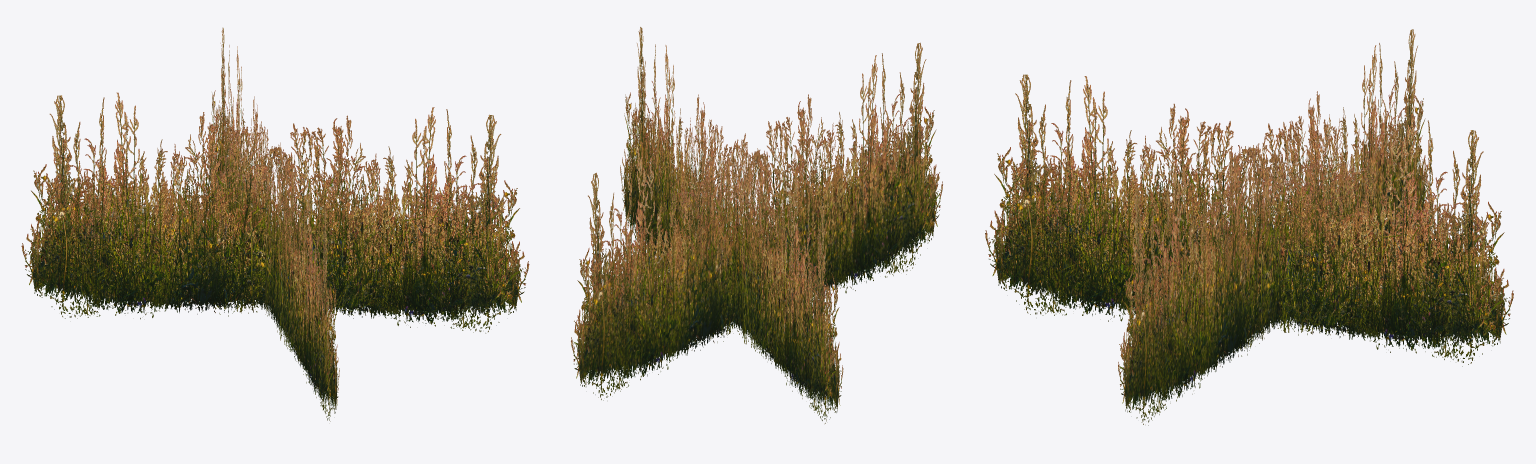
Rendered from SM_Plant_Grass_00.fbx.
3 views of the same model, side by side, from view 1: azimuth 30°, elevation 25°; view 2: azimuth 150°, elevation 25°; view 3: azimuth 270°, elevation 25° (orthographic). The views are drawn at different scales.
Visible parts, largest first — view 1: SM_Plant_Grass_00; view 2: SM_Plant_Grass_00; view 3: SM_Plant_Grass_00.
Part boxes in pixels (<box>): SM_Plant_Grass_00: <box>21,27,529,421</box>; SM_Plant_Grass_00: <box>571,27,942,423</box>; SM_Plant_Grass_00: <box>985,29,1513,425</box>.
Size of the model in its own units: 403 by 254 by 474.
